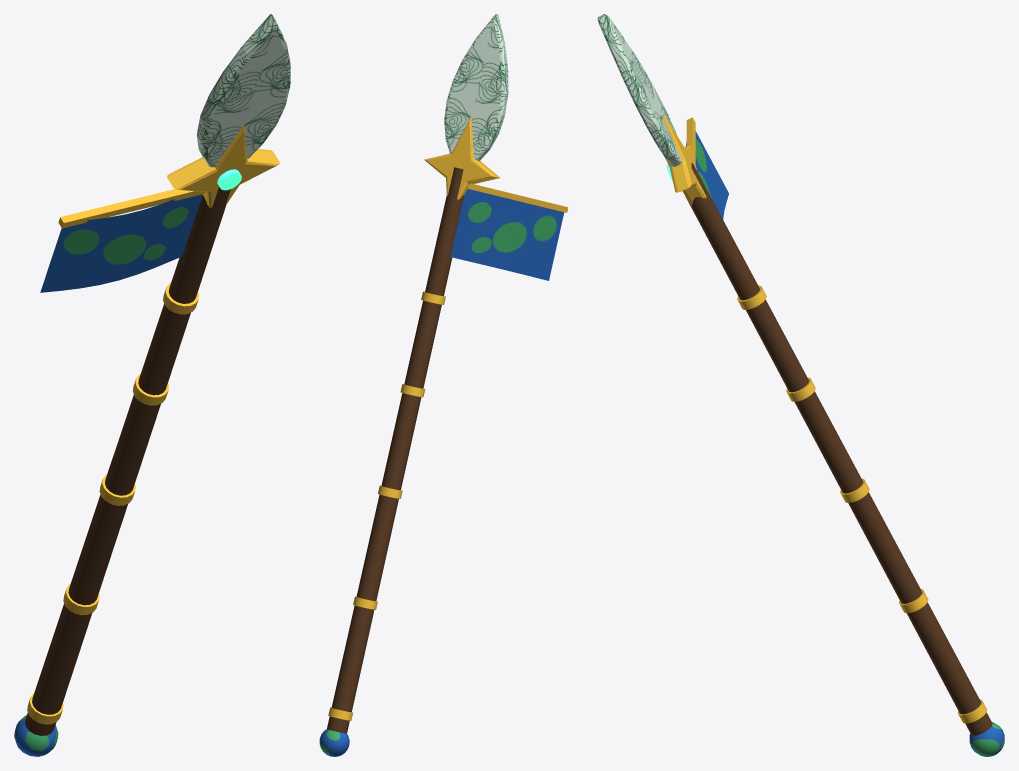
The model's file is hand_eqsa4.glb.
3 views of the same model, side by side, from view 1: azimuth 30°, elevation 25°; view 2: azimuth 150°, elevation 25°; view 3: azimuth 270°, elevation 25° (orthographic). The views are drawn at different scales.
Size of the model in its own units: 1.71 by 7.08 by 3.53.
Materials: 7 (3 with a texture image).
